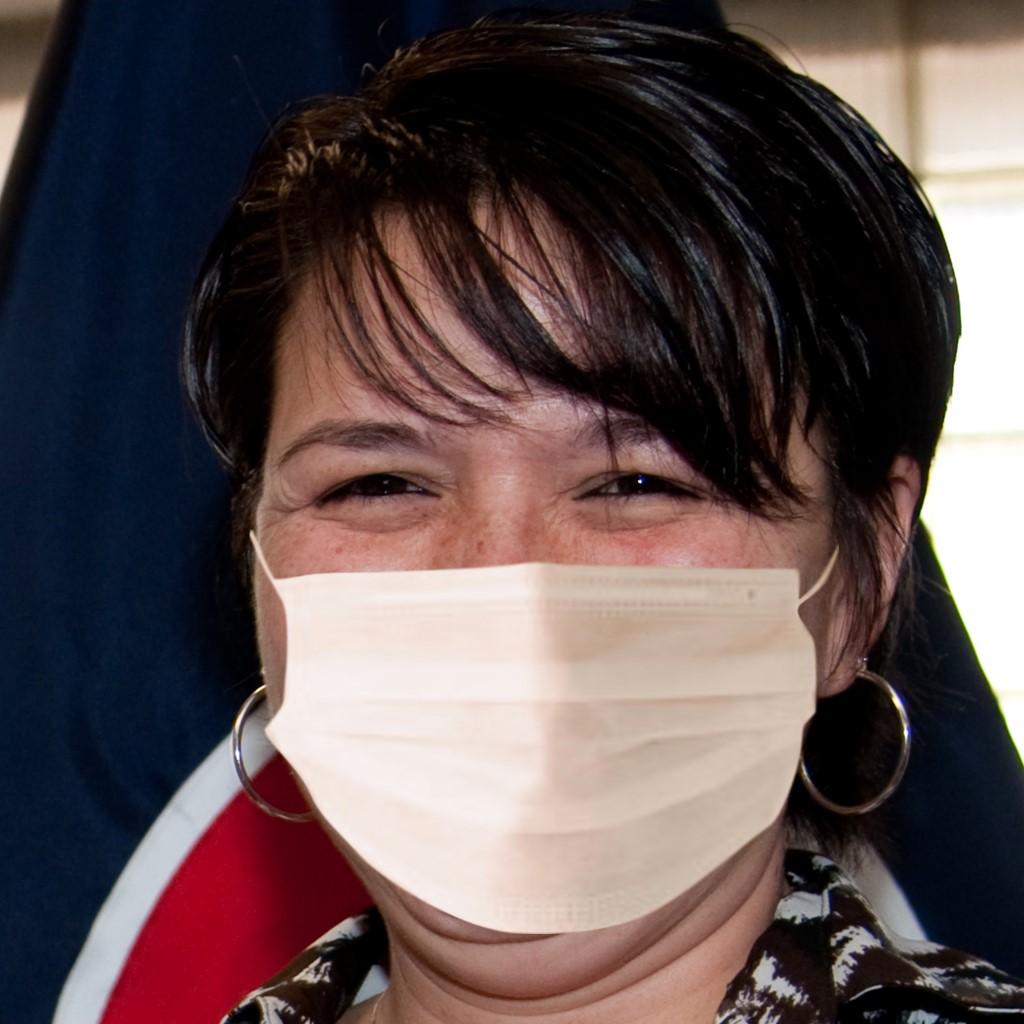con_mascara: (234, 224, 854, 949)
